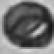correct: (4, 2, 54, 48)
